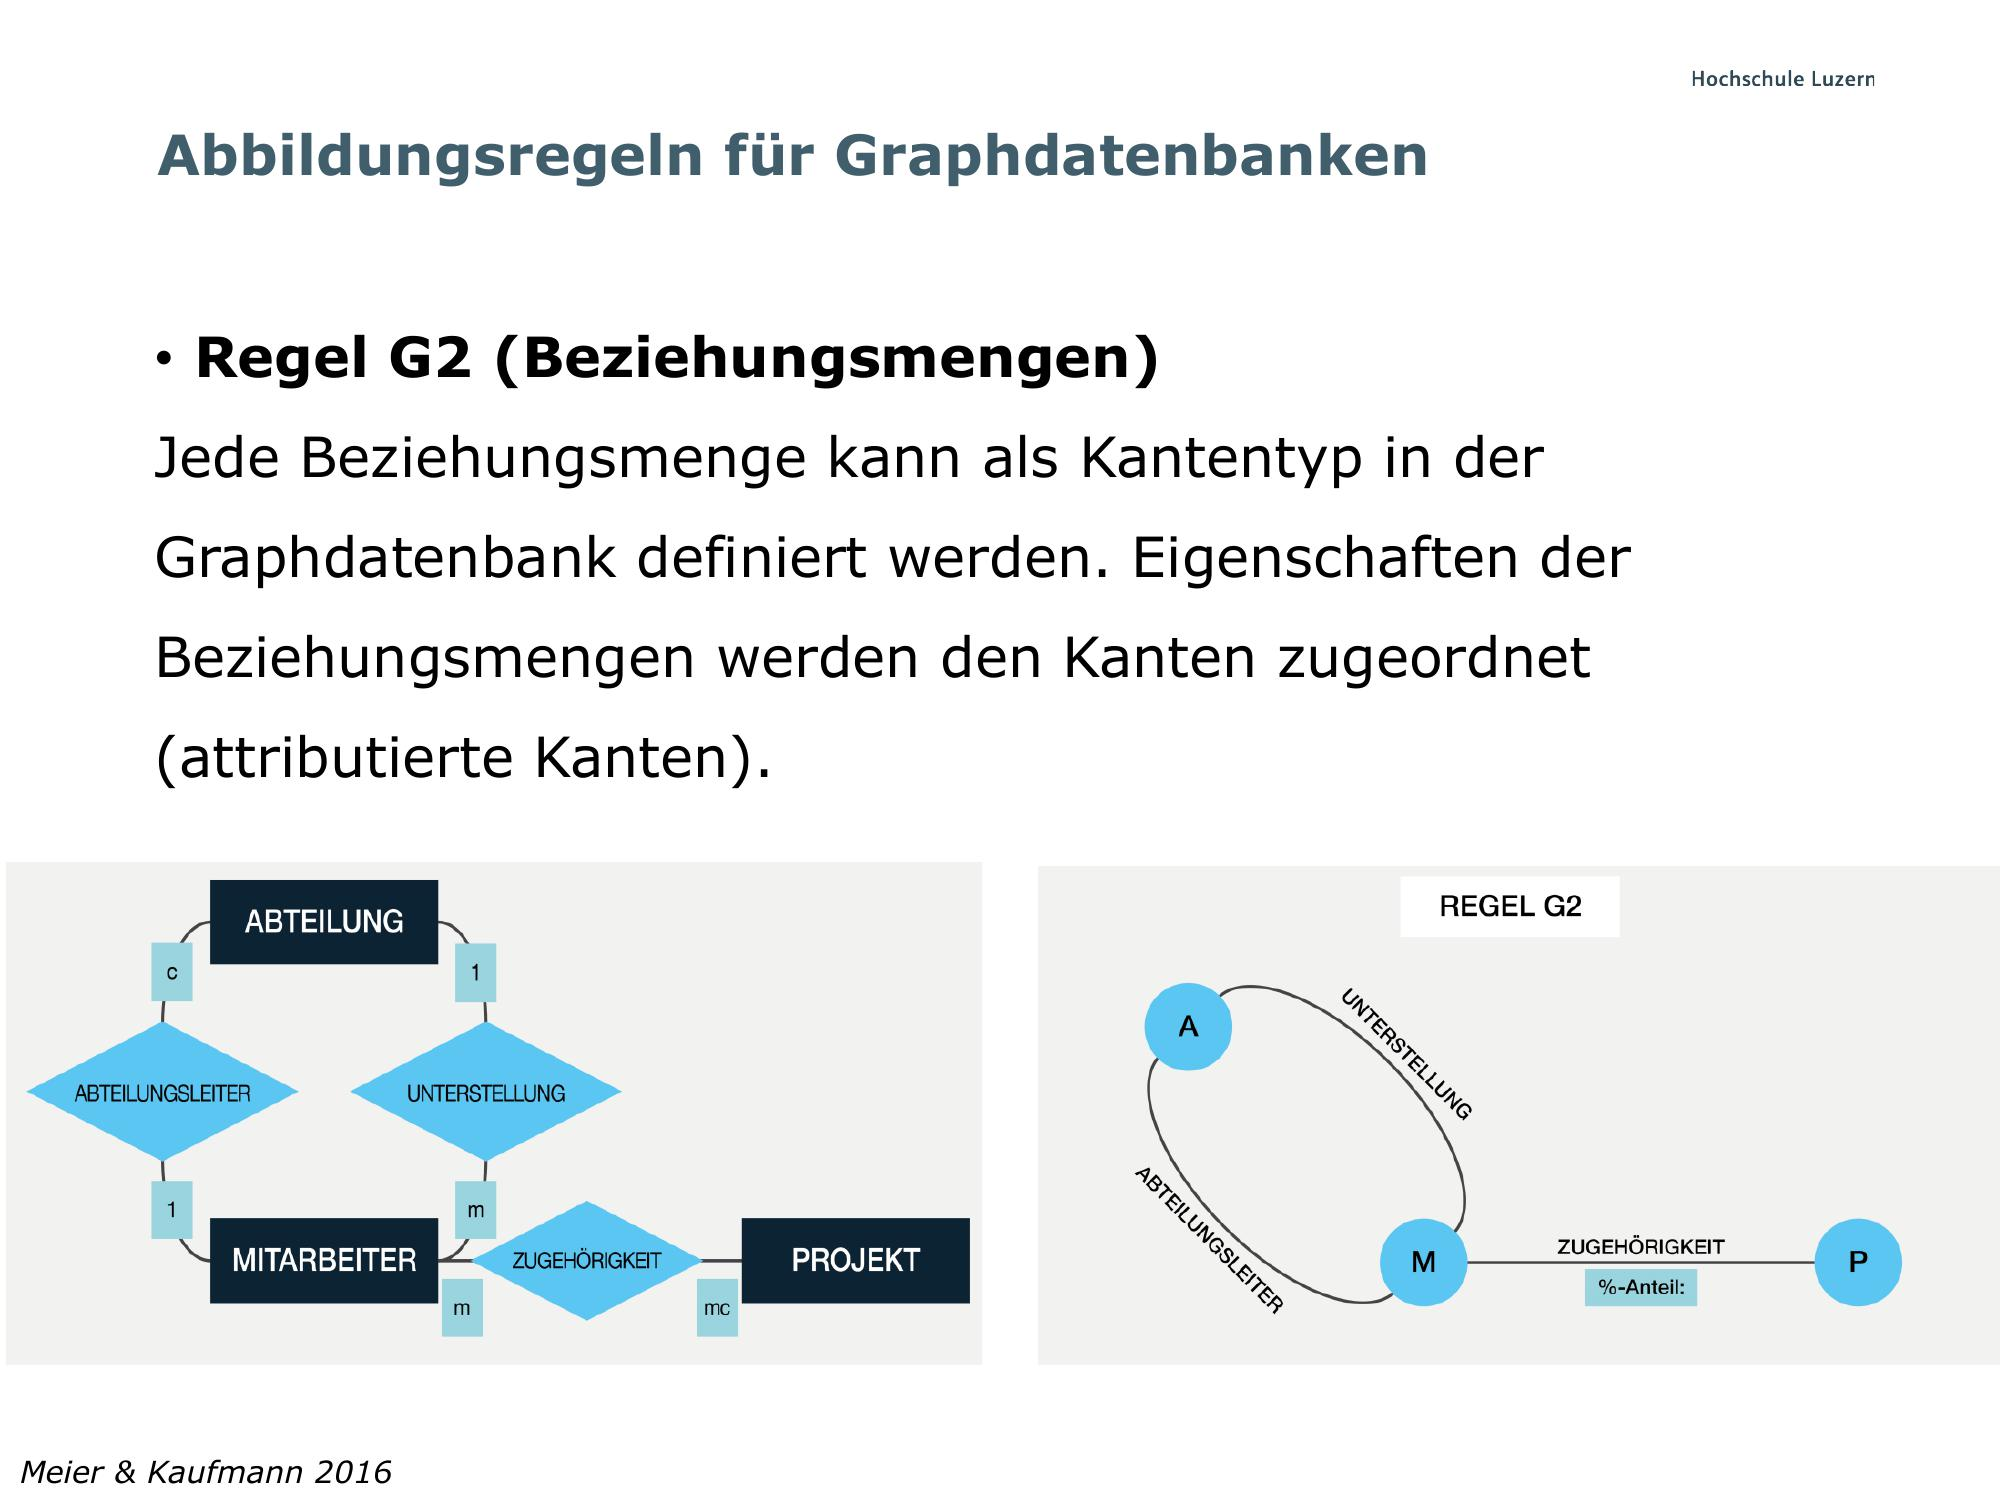Title: (142, 117, 1439, 191)
